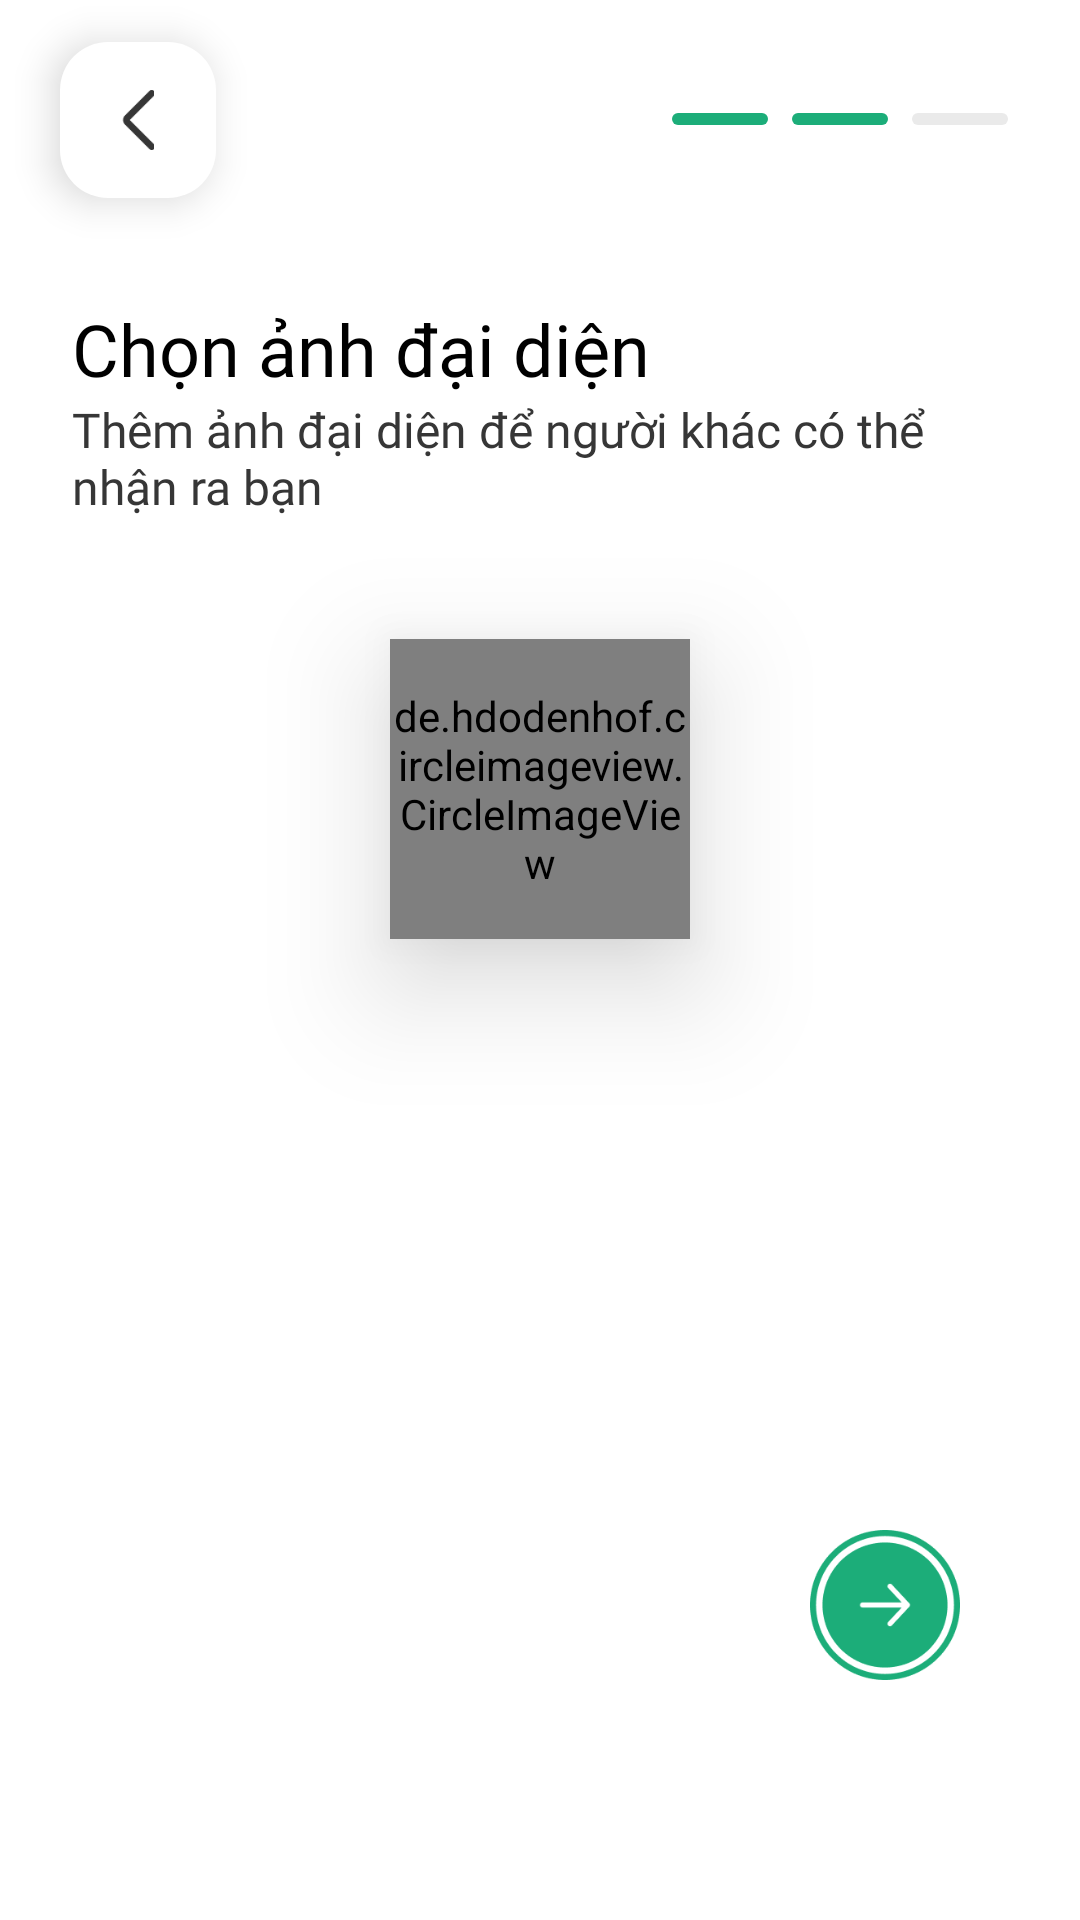

Screen size 1080x1920. Icon name, then its center in pixels as [x,y]:
back: [138,120]
next: [885,1605]
